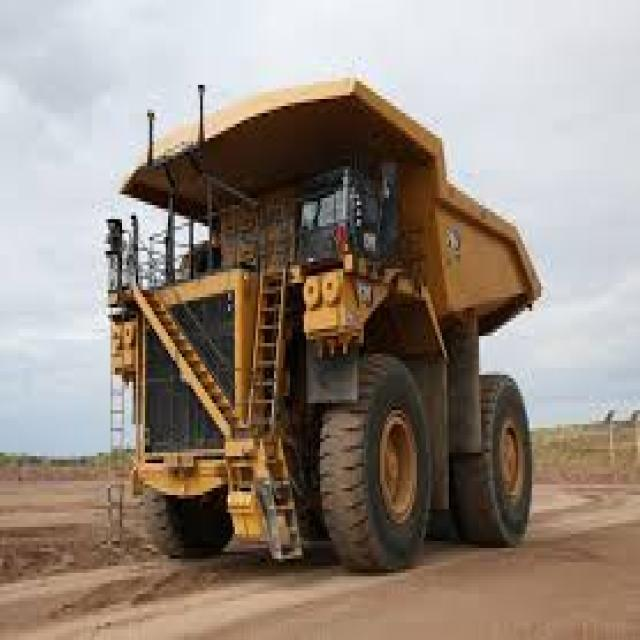dump_truck: (97, 64, 548, 584)
